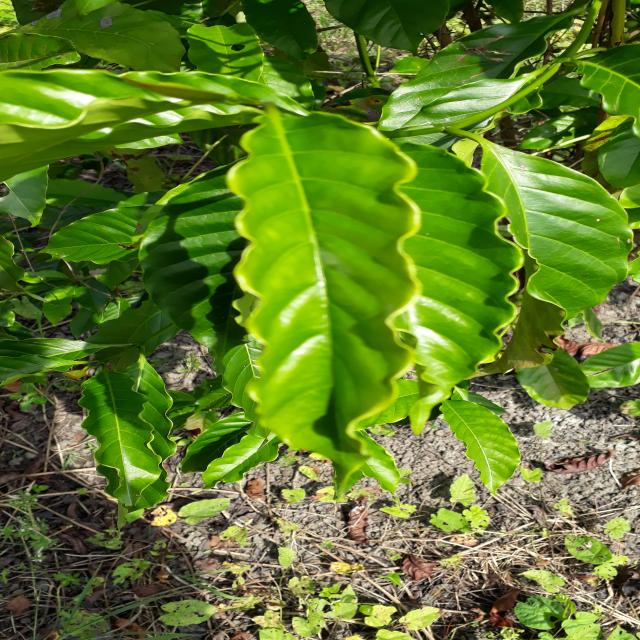Sanas: (225, 110, 422, 495)
